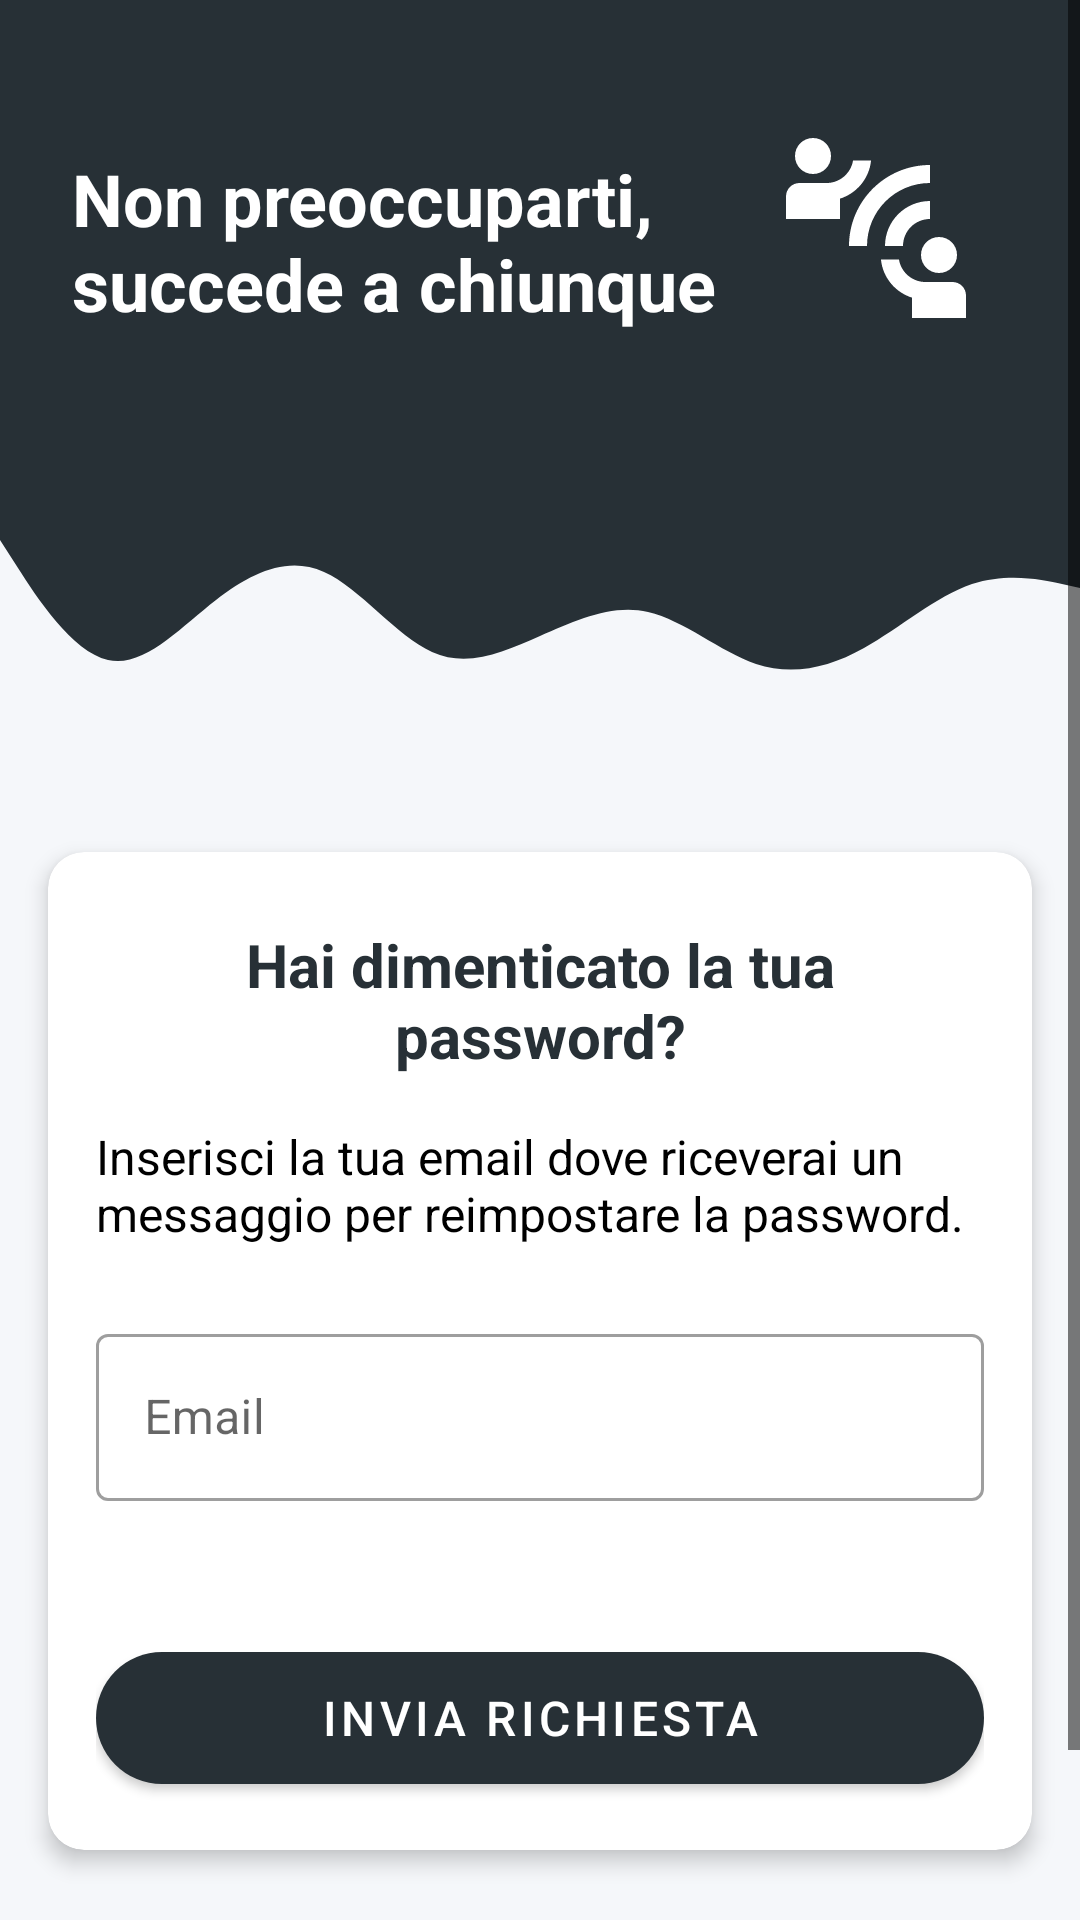

Screen size 1080 × 1920. Icon name, then its center in pixels as [x,y]:
contact: [876,228]
